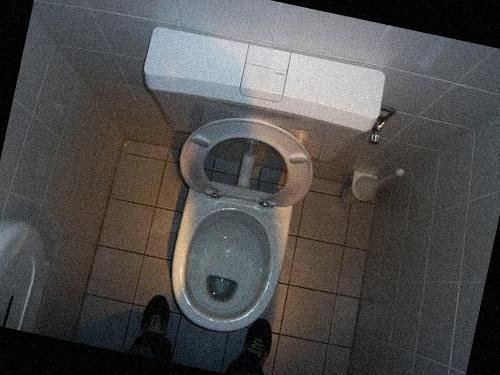Sanitario: (89, 23, 394, 367)
